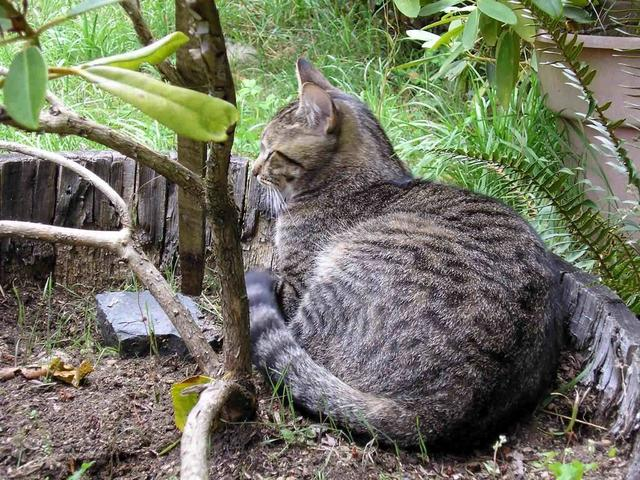cat: (199, 24, 563, 480)
